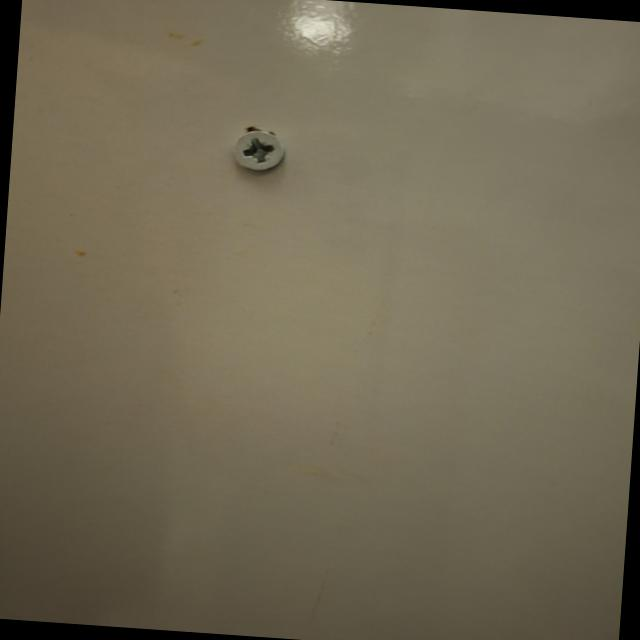Pozidriv: (229, 133, 288, 174)
